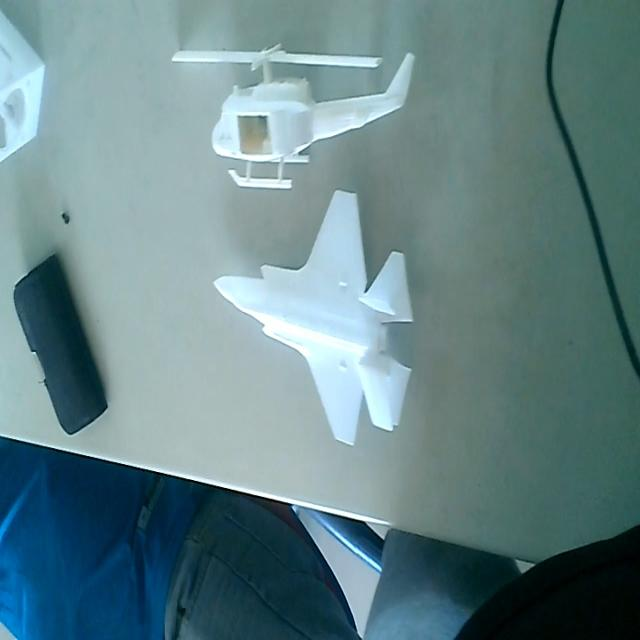Helicopter: (170, 26, 412, 192)
Jet: (212, 190, 416, 447)
